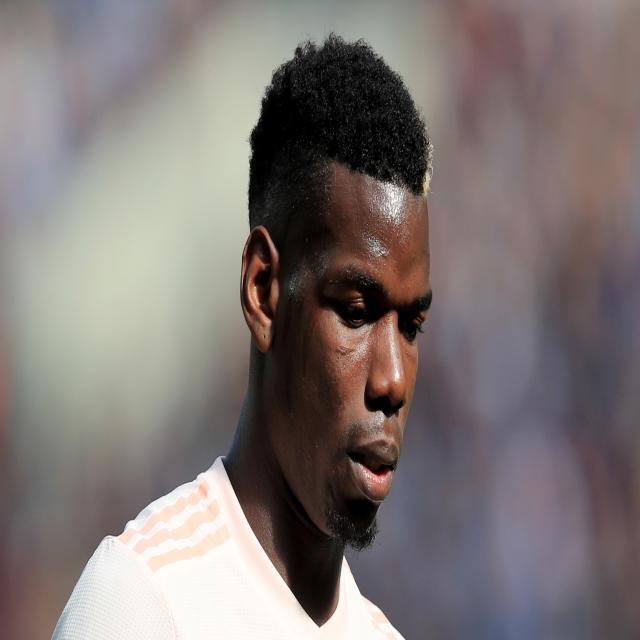mobile_phonerotation: (51, 30, 436, 637)
